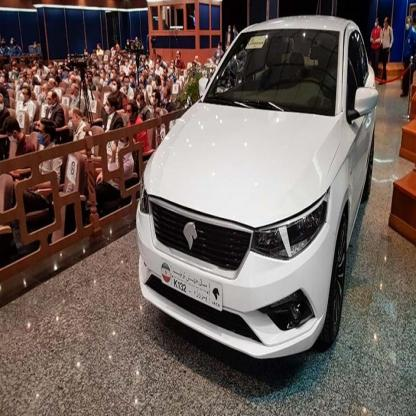Car: (128, 13, 376, 352)
